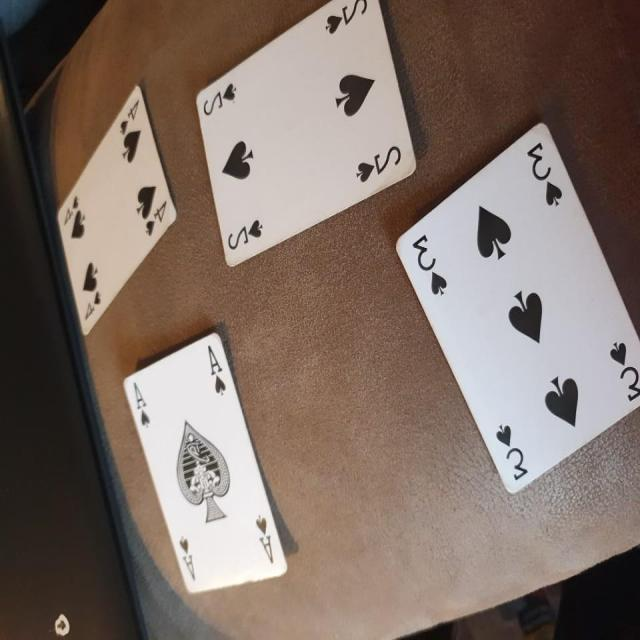2 of spades: (191, 0, 411, 270)
3 of spades: (373, 116, 640, 506)
4 of spades: (44, 64, 188, 334)
ace of spades: (117, 322, 290, 606)
